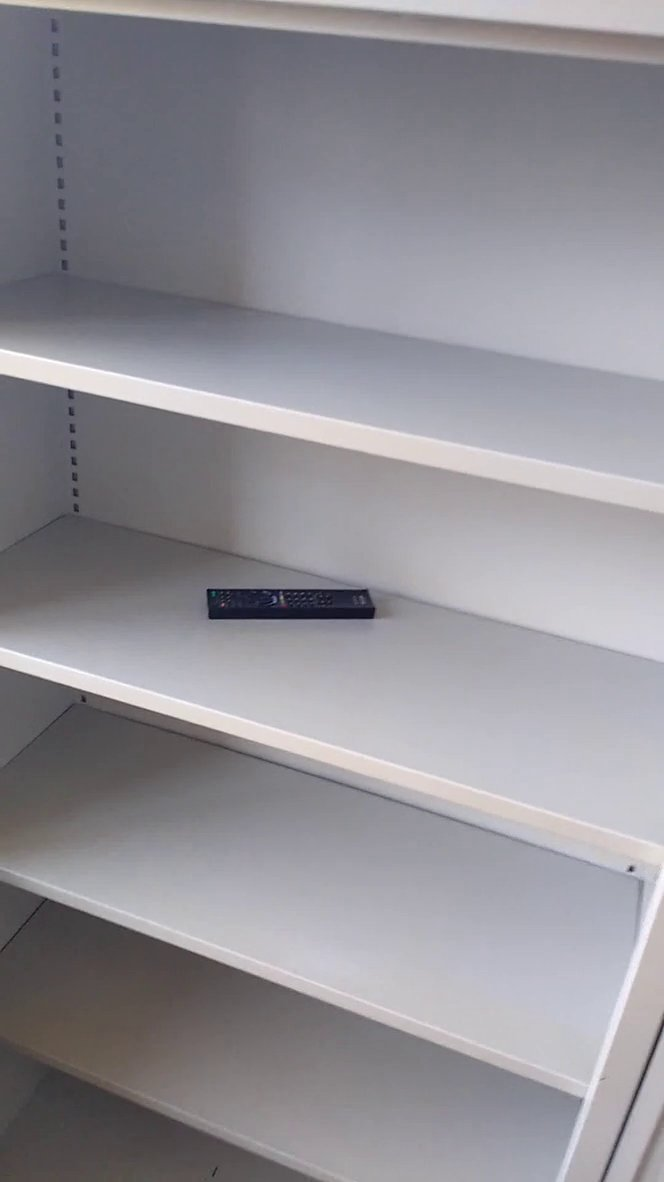remote: (194, 573, 385, 635)
